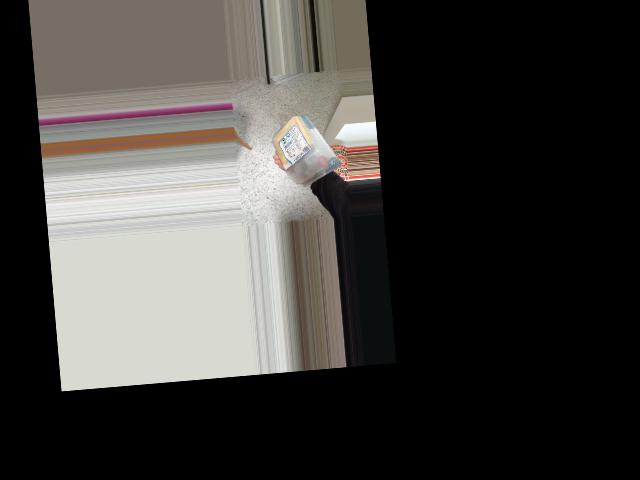cheese: (264, 107, 347, 192)
